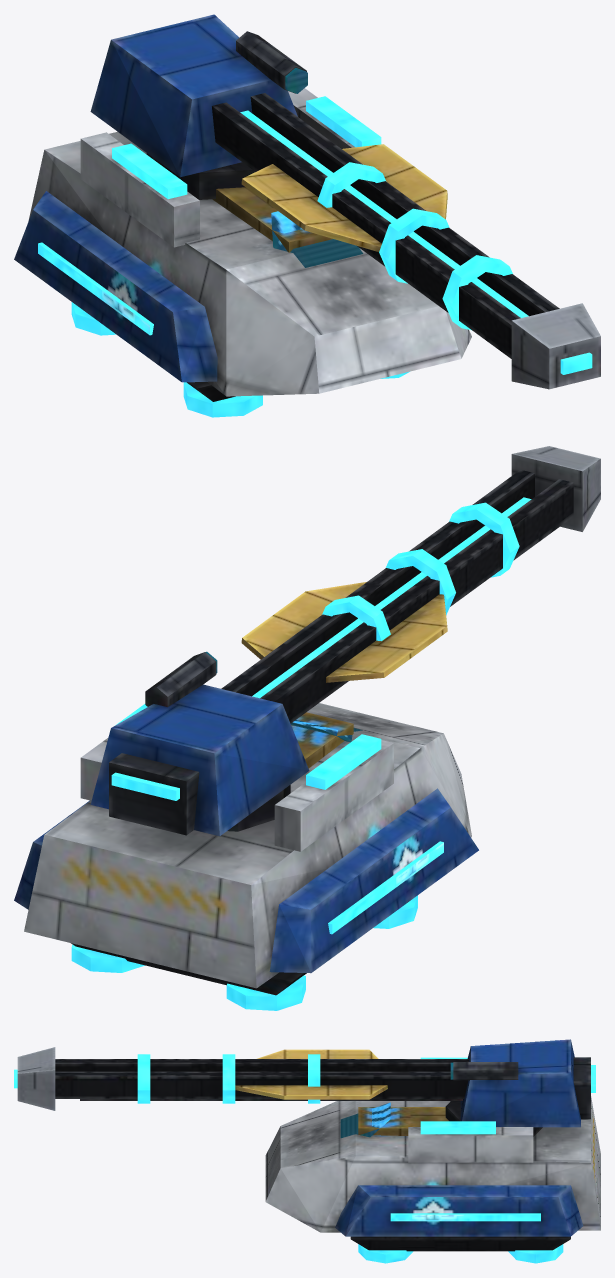
The model's file is u_lancer3_w.glb.
3 renders of one model, top to bottom at view 1: azimuth 30°, elevation 25°; view 2: azimuth 150°, elevation 25°; view 3: azimuth 270°, elevation 25°, orthographic. The views are drawn at different scales.
Visible parts, largest first — view 1: u_lancer3_w; view 2: u_lancer3_w; view 3: u_lancer3_w.
Part boxes in pixels (x1,y1,x2,y2): u_lancer3_w: (14, 14, 600, 417); u_lancer3_w: (14, 446, 600, 1010); u_lancer3_w: (14, 1039, 600, 1263).
Size of the model in its own units: 1.06 by 0.9125 by 2.71.
Materials: 1 (1 with a texture image).
